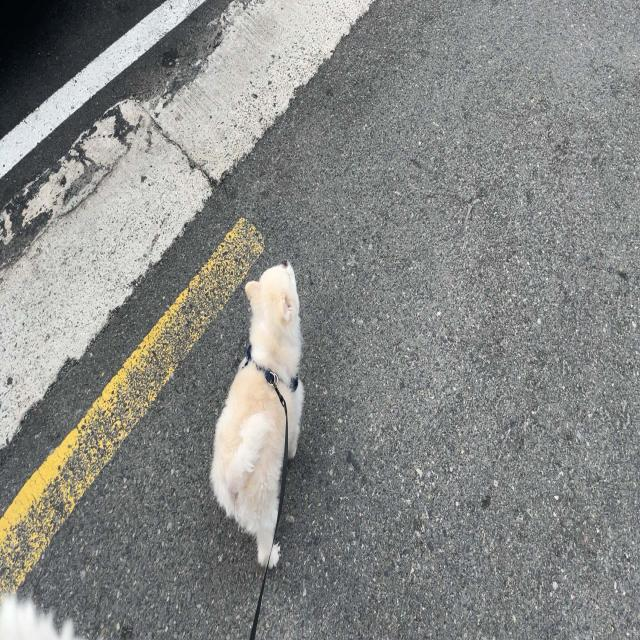Dog: (212, 261, 305, 571)
